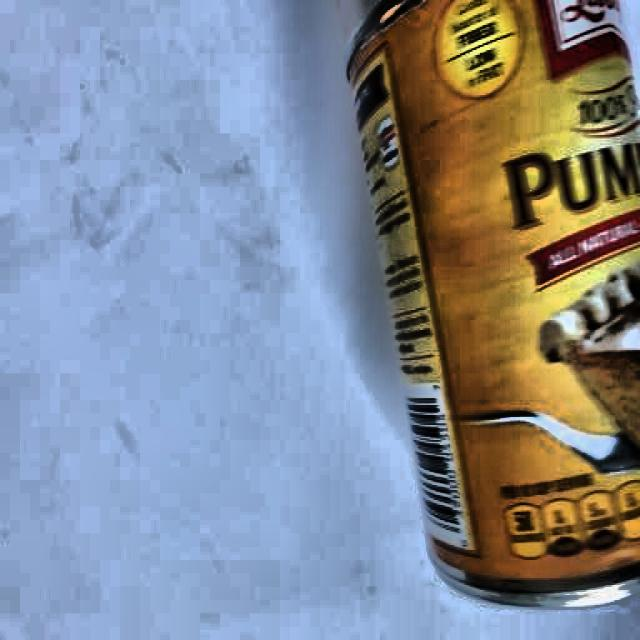metal: (335, 0, 640, 625)
